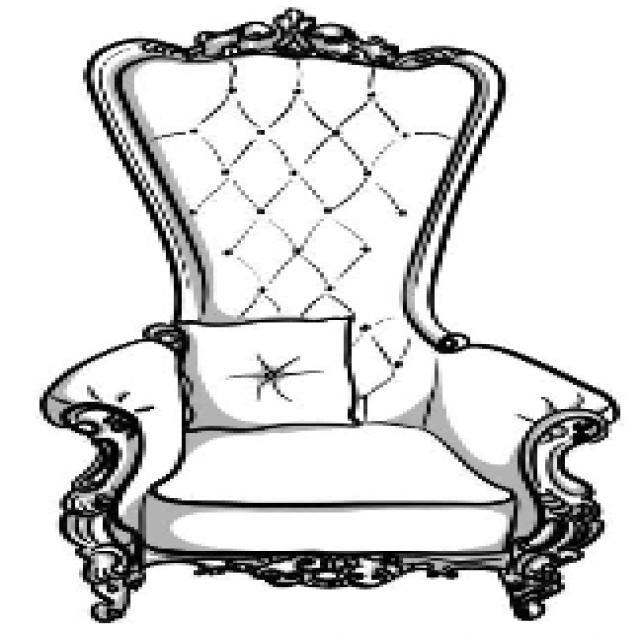Armrest: (421, 340, 625, 564), (32, 319, 189, 547)
Backrest: (79, 5, 512, 434)
Leg_Structure: (57, 536, 610, 628)
Seat: (142, 420, 516, 552)
